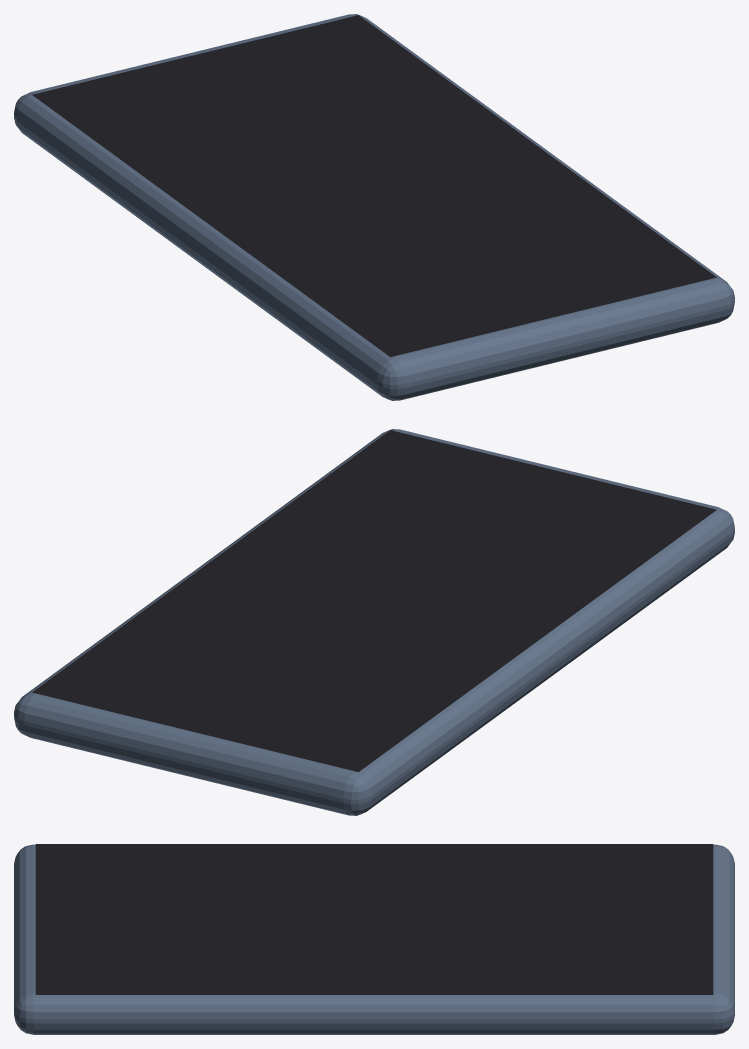
The model's file is motorola-moto-g-model-135-flagship-2023.glb.
3 renders of one model, top to bottom at view 1: azimuth 30°, elevation 25°; view 2: azimuth 150°, elevation 25°; view 3: azimuth 270°, elevation 25°, orthographic. The views are drawn at different scales.
Parts seen in each view (by area): view 1: Phone_Screen, Phone_Body; view 2: Phone_Screen, Phone_Body; view 3: Phone_Screen, Phone_Body.
Boxes of the visible parts, x1,y1,x2,y2 form: Phone_Screen: (32, 15, 716, 356); Phone_Body: (14, 14, 734, 400); Phone_Screen: (32, 430, 716, 771); Phone_Body: (14, 429, 734, 815); Phone_Screen: (35, 844, 713, 994); Phone_Body: (14, 844, 734, 1034).
Bounding box in the file's own units: 0.0757 × 0.0086 × 0.1408.
